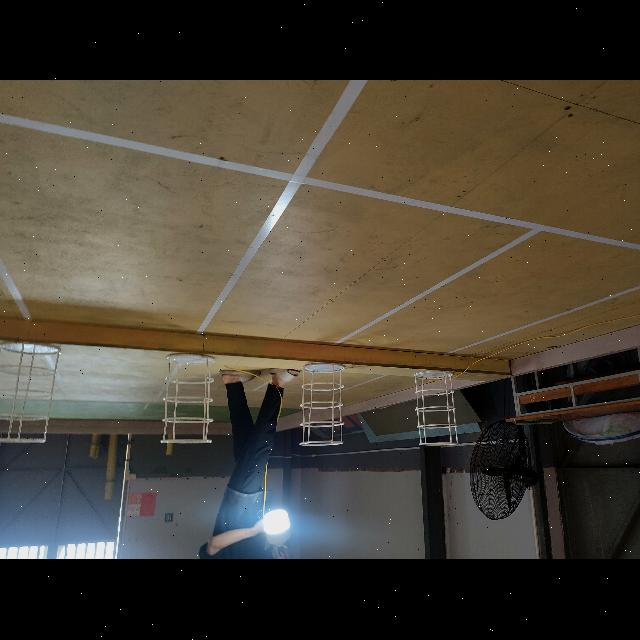S: (0, 342, 66, 446), (162, 351, 218, 449), (297, 359, 347, 453), (410, 366, 462, 450)
